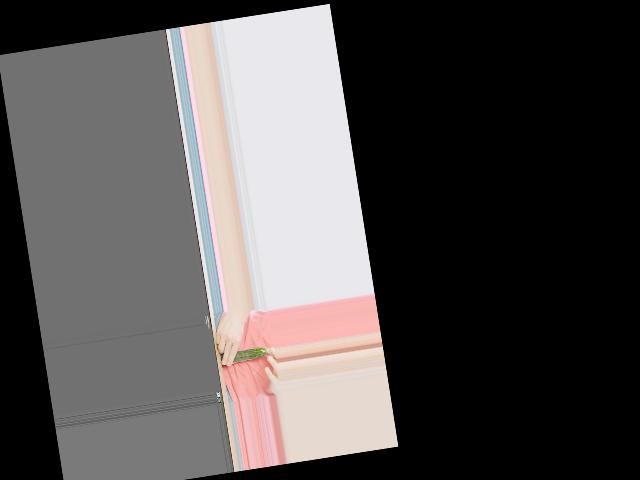cucumber: (230, 345, 267, 362)
